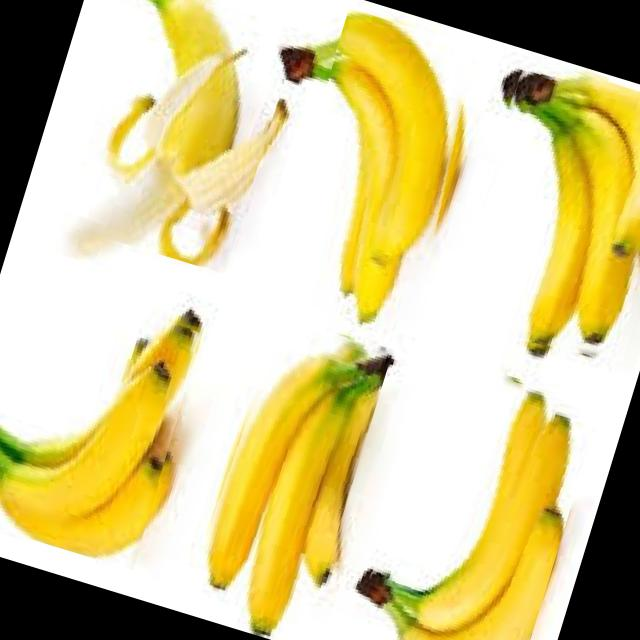Organic: (263, 7, 499, 334), (21, 0, 302, 273), (343, 350, 602, 640), (179, 312, 392, 640), (431, 51, 640, 376), (0, 259, 208, 568), (268, 20, 341, 90)
